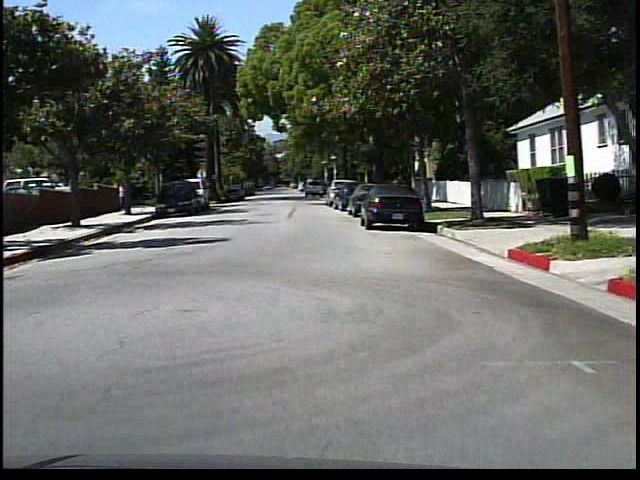person: (115, 179, 132, 216)
